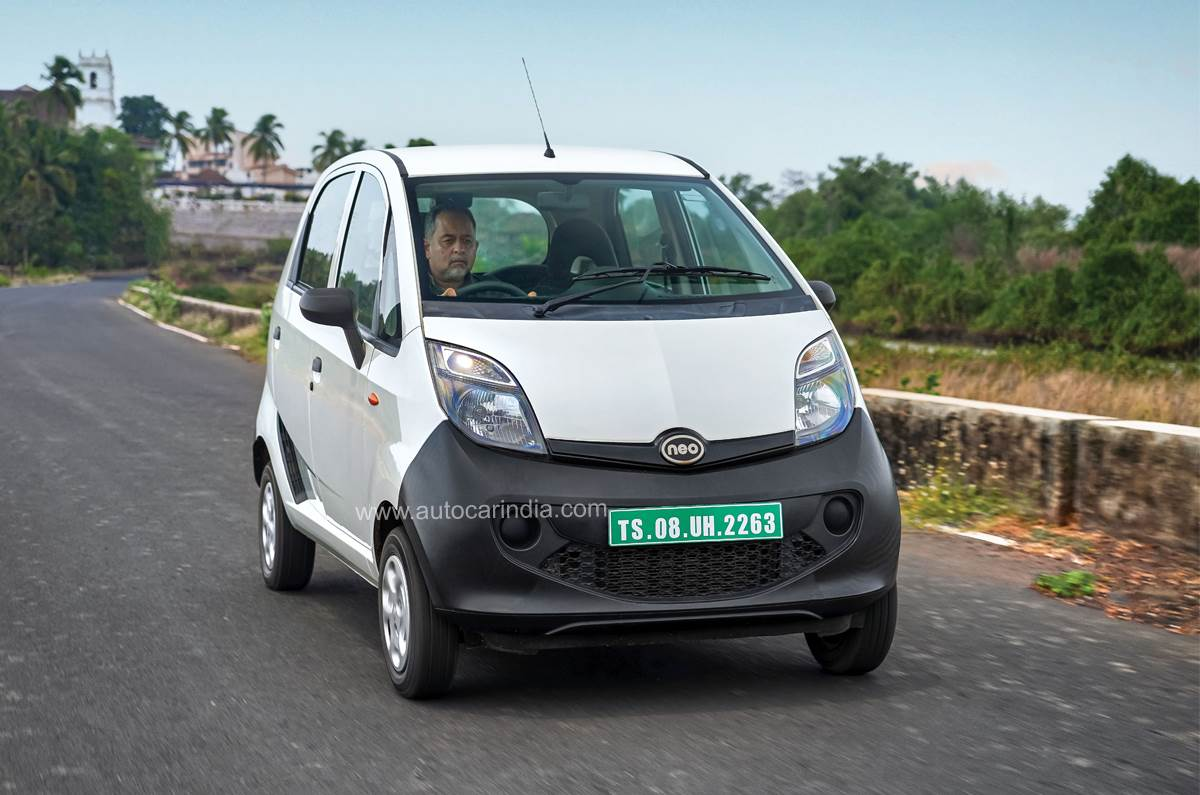Nano: (251, 142, 907, 704)
